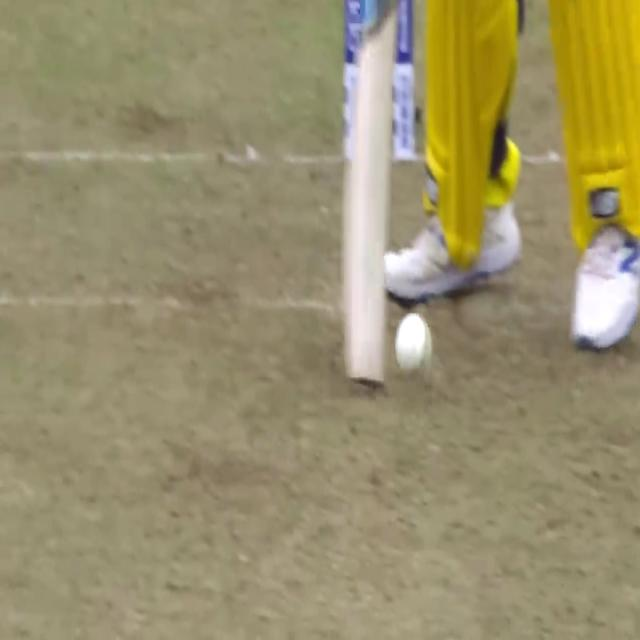ball: (394, 310, 438, 386)
